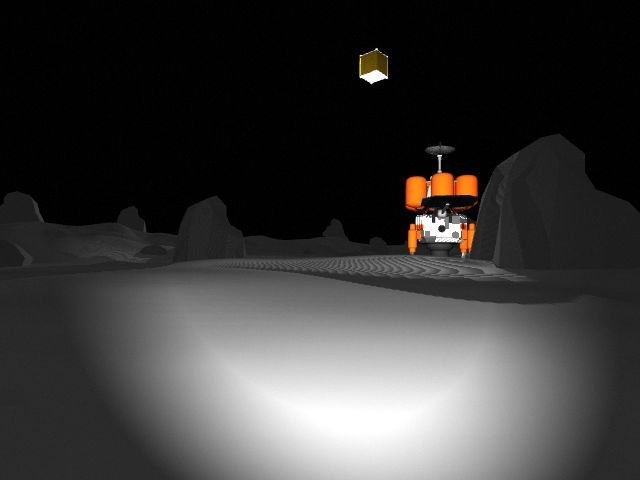cubesat: (357, 46, 393, 92)
